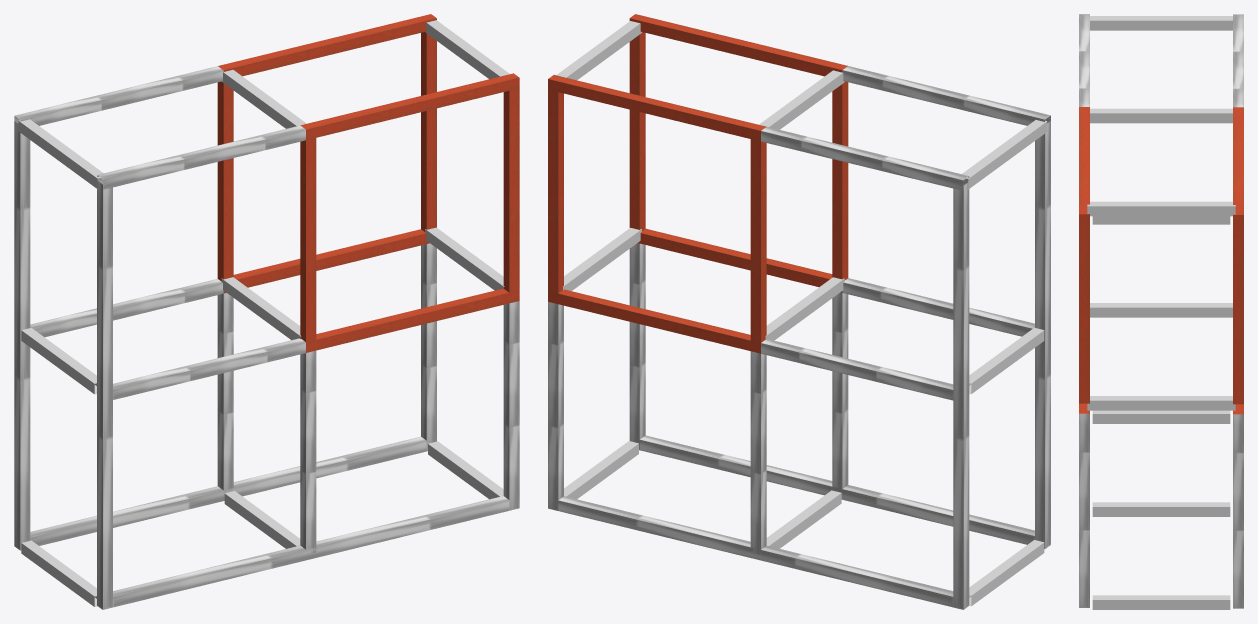
The model's file is jungle_gate_2018.dae.
The picture shows the model from 3 angles, left to right: view 1: azimuth 30°, elevation 25°; view 2: azimuth 150°, elevation 25°; view 3: azimuth 270°, elevation 25°; orthographic projection. The views are drawn at different scales.
Visible parts, largest first — view 1: GATE_B, GATE_F, BAR_008; view 2: GATE_F, GATE_B, BAR_008; view 3: BAR_008, GATE_F, GATE_B.
Boxes of the visible parts, x1,y1,x2,y2 form: GATE_B: (97, 73, 519, 609); GATE_F: (14, 14, 436, 550); BAR_008: (18, 20, 509, 606); GATE_F: (548, 75, 969, 609); GATE_B: (629, 14, 1050, 548); BAR_008: (556, 21, 1047, 606); BAR_008: (1087, 16, 1235, 609); GATE_F: (1233, 14, 1243, 608); GATE_B: (1079, 14, 1089, 607).
Bounding box in the file's own units: 2.05 × 0.75 × 2.04.
3 materials, 2 textured.
